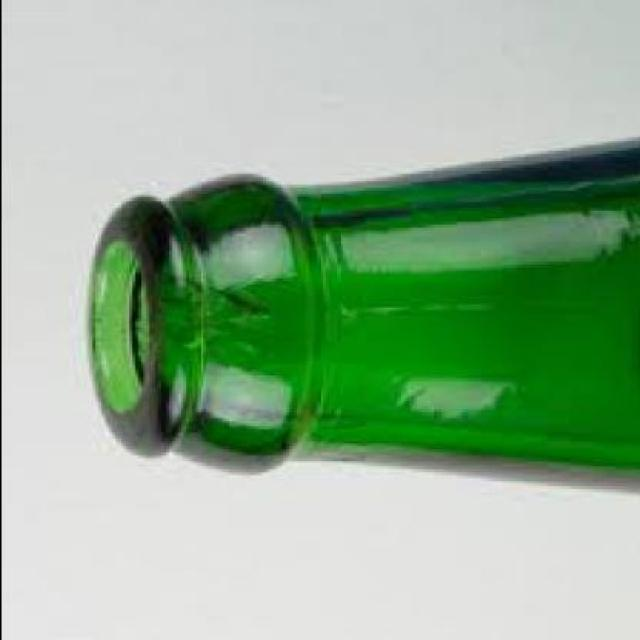glass: (83, 134, 637, 488)
